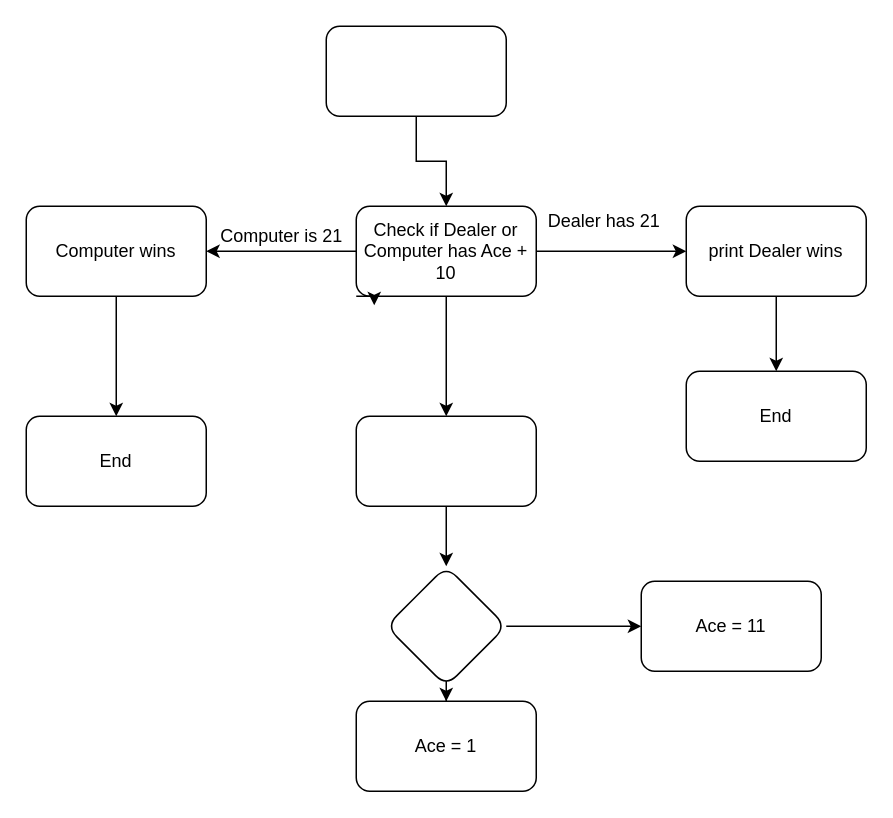
Some shapes in this 893 by 818 pixel diagram are drawn without their labels. The box of each missing label's shape, as (x1, y1, x2, y2) in pixels:
An Ace is drawn: (355, 415, 536, 506)
Deal both users 2 random cards each: (325, 25, 506, 116)
if total <= 10: (385, 565, 506, 686)
